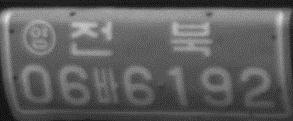0: (19, 63, 53, 105)
1: (163, 65, 194, 107)
2: (239, 66, 274, 109)
6: (58, 63, 91, 108), (122, 65, 155, 107)
9: (199, 65, 234, 108)
바: (93, 65, 120, 105)
영: (22, 18, 57, 56)
전북_D: (68, 20, 213, 58)
